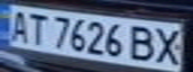2: (84, 19, 109, 56)
6: (103, 20, 130, 60), (66, 16, 90, 53)
7: (48, 14, 72, 50)
A: (3, 7, 33, 43)
B: (127, 22, 160, 63)
T: (24, 10, 51, 45)
X: (151, 25, 187, 66)
